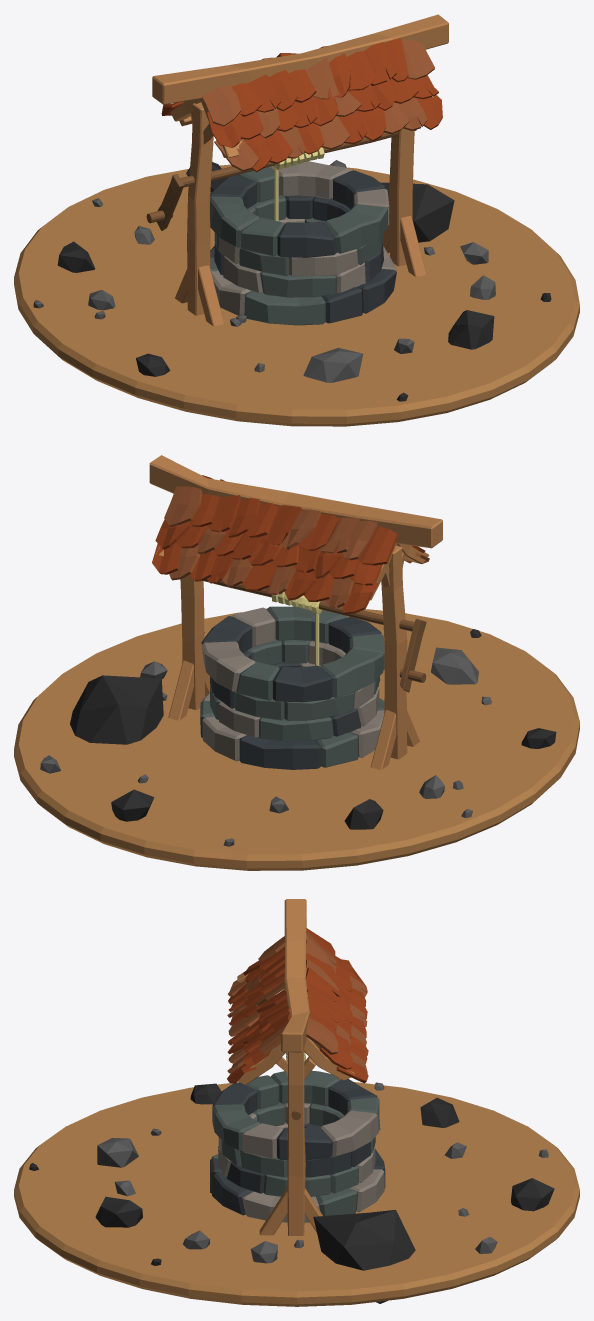
Rendered from pozoUnido.fbx.
3 views of the same model, one above another, from view 1: azimuth 30°, elevation 25°; view 2: azimuth 150°, elevation 25°; view 3: azimuth 270°, elevation 25° (orthographic). The views are drawn at different scales.
Visible parts, largest first — view 1: Cube.002; view 2: Cube.002; view 3: Cube.002.
Part boxes in pixels (box(x1,y1,x2,y2)): Cube.002: box(14, 14, 579, 426); Cube.002: box(14, 455, 579, 870); Cube.002: box(14, 899, 579, 1306).
Size of the model in its own units: 3046 by 1822 by 3380.
